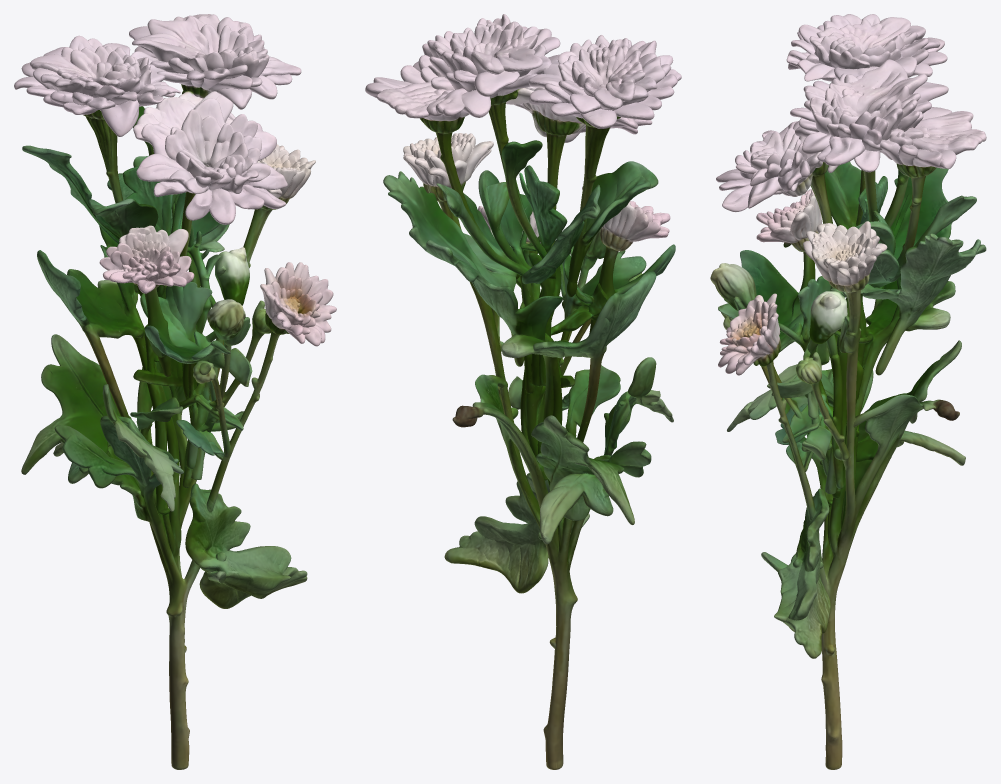
The model's file is Chrysanthemum-v2.glb.
3 renders of one model, left to right at view 1: azimuth 30°, elevation 25°; view 2: azimuth 150°, elevation 25°; view 3: azimuth 270°, elevation 25°, orthographic. The views are drawn at different scales.
Parts seen in each view (by area): view 1: model; view 2: model; view 3: model.
Part boxes in pixels (x1=…): model: x1=14, y1=14, x2=336, y2=769; model: x1=365, y1=14, x2=681, y2=769; model: x1=710, y1=14, x2=986, y2=769.
Size of the model in its own units: 0.7566 by 1.9 by 0.6743.
Materials: 1 (1 with a texture image).
